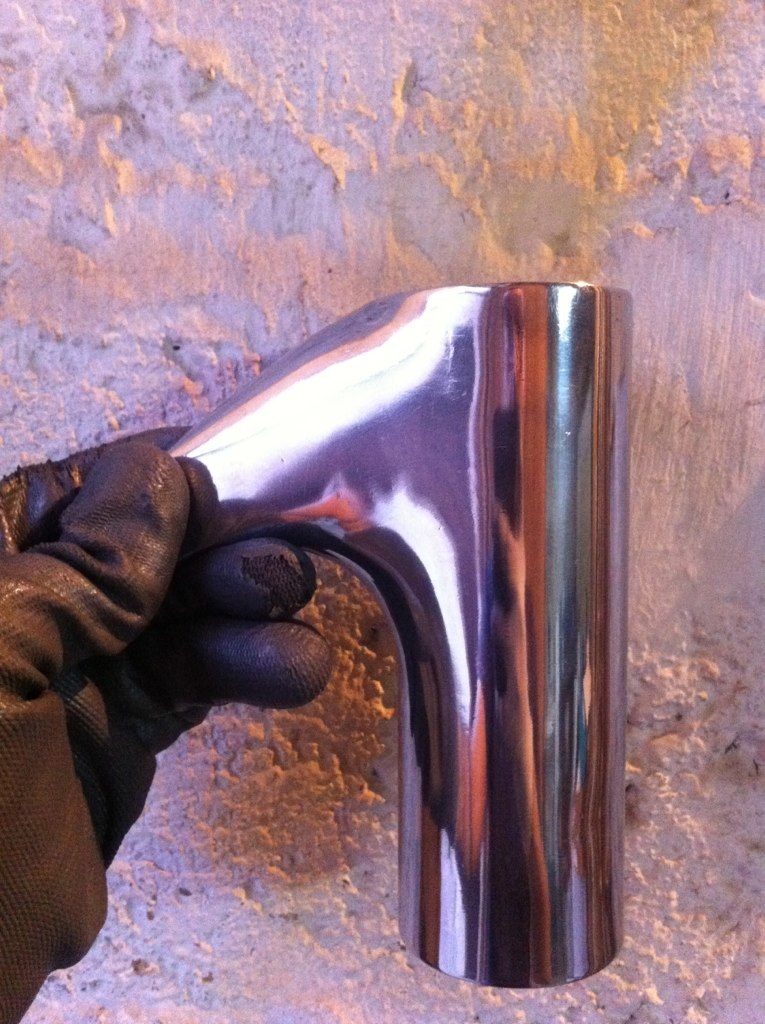tap: (189, 282, 664, 984)
